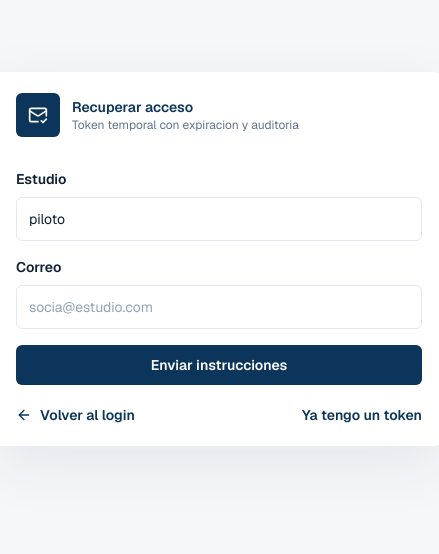
Test: Password reset › shows local/test reset token only when the API returns one
Type "ljiturri@iturri.com.pe" into the field labelled "Correo". click: {"x": 219, "y": 307}
box: [16,285,422,329]
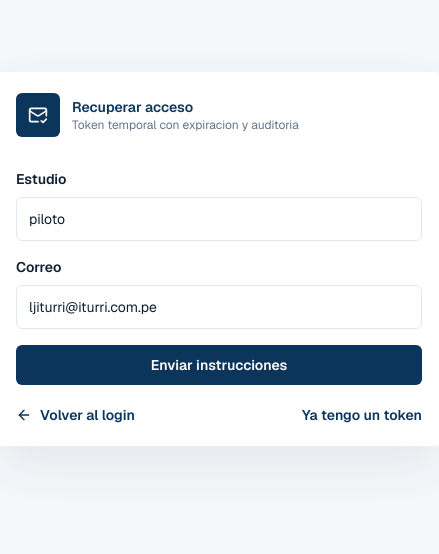
Click the button "Enviar instrucciones". click: {"x": 219, "y": 365}
box: [16,345,422,385]
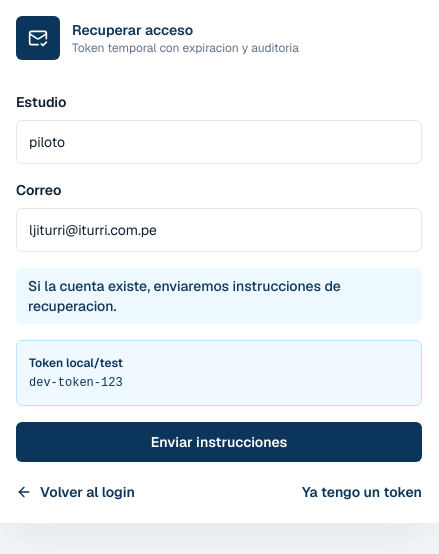
Now the text "Token local/test" is shown, box [29,355,123,371]
Now the text "dev-token-123" is shown, box [29,376,123,390]
